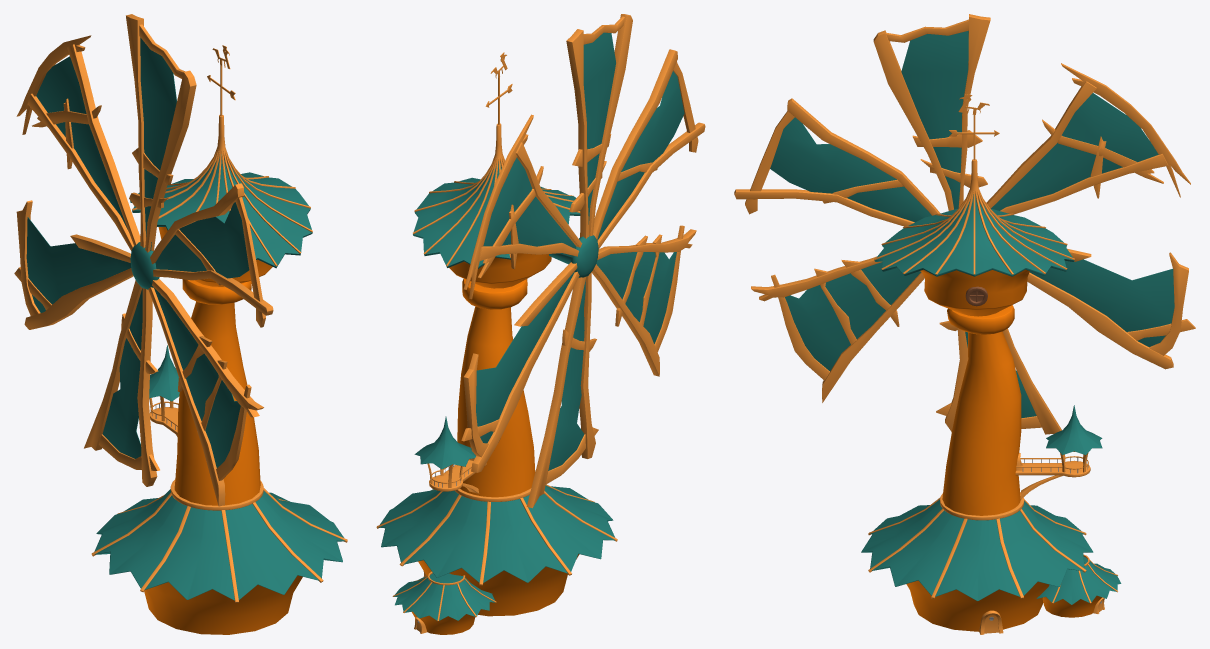
File: fengche001.fbx
3 renders of one model, left to right at view 1: azimuth 30°, elevation 25°; view 2: azimuth 150°, elevation 25°; view 3: azimuth 270°, elevation 25°, orthographic. The views are drawn at different scales.
Parts seen in each view (by area): view 1: dao212, dao158; view 2: dao212, dao158; view 3: dao212, dao158.
Boxes of the visible parts, bbox=[...] form: dao212: bbox=[14, 14, 273, 506]; dao158: bbox=[91, 45, 347, 634]; dao212: bbox=[461, 14, 705, 508]; dao158: bbox=[376, 52, 617, 634]; dao212: bbox=[734, 14, 1195, 434]; dao158: bbox=[861, 94, 1121, 634].
Bounding box in the file's own units: 503 × 1329 × 1006.
